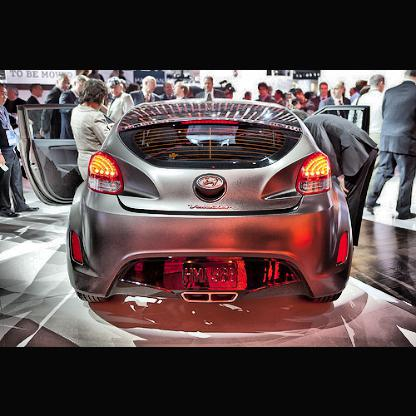Hyundai Veloster Hatchback 2012: (68, 100, 355, 304)
